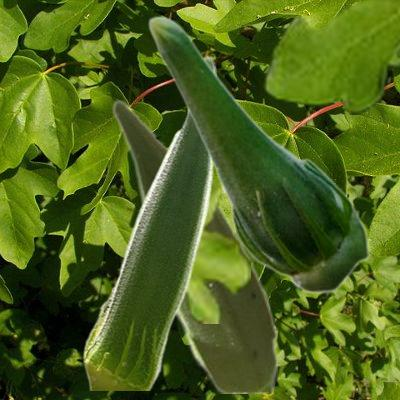okra: (147, 15, 369, 293), (111, 98, 276, 392), (82, 55, 215, 389)
